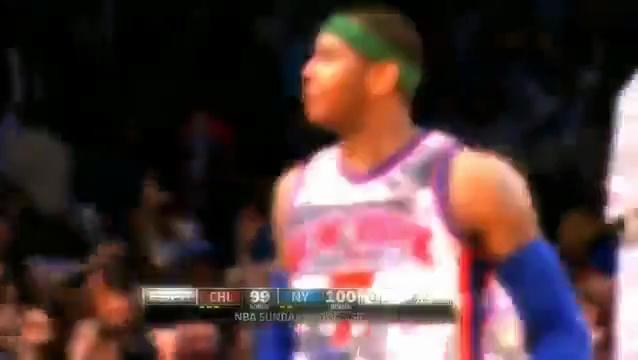Person: (273, 2, 599, 359)
